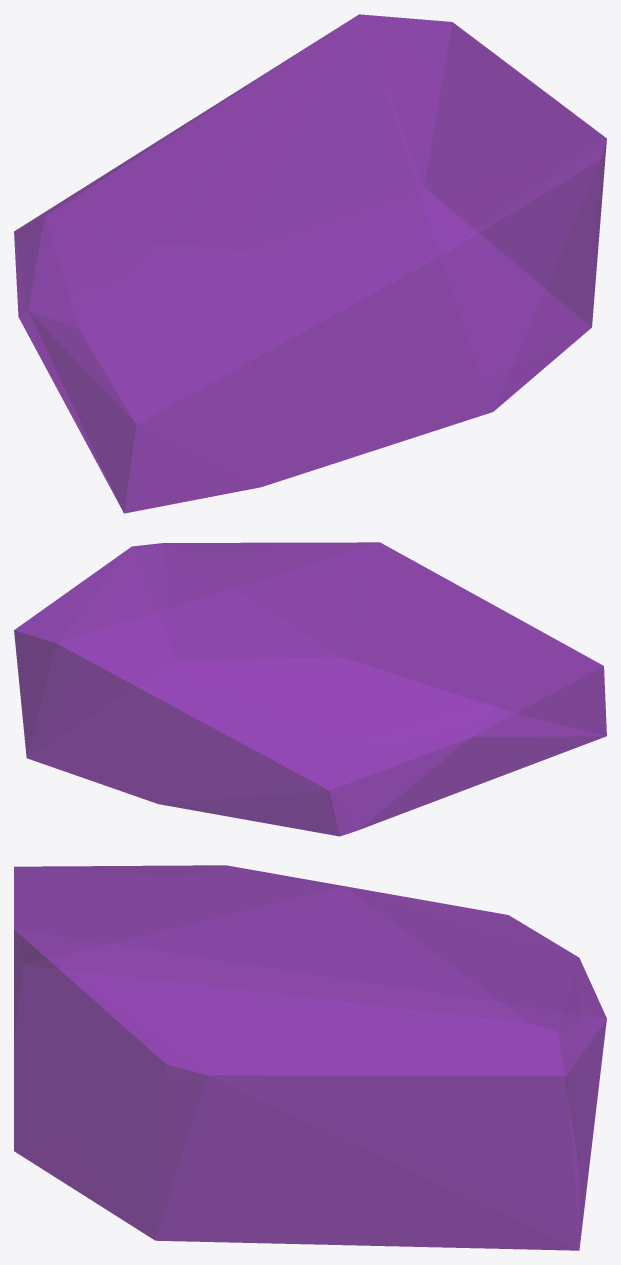
3 views of the same model, one above another, from view 1: azimuth 30°, elevation 25°; view 2: azimuth 150°, elevation 25°; view 3: azimuth 270°, elevation 25° (orthographic). The views are drawn at different scales.
Visible parts, largest first — view 1: Shape_IndexedFaceSet.036_Shape_IndexedFaceSet.3613; view 2: Shape_IndexedFaceSet.036_Shape_IndexedFaceSet.3613; view 3: Shape_IndexedFaceSet.036_Shape_IndexedFaceSet.3613.
Boxes of the visible parts, x1=… form: Shape_IndexedFaceSet.036_Shape_IndexedFaceSet.3613: x1=14, y1=14, x2=606, y2=513; Shape_IndexedFaceSet.036_Shape_IndexedFaceSet.3613: x1=14, y1=542, x2=606, y2=836; Shape_IndexedFaceSet.036_Shape_IndexedFaceSet.3613: x1=14, y1=865, x2=606, y2=1250.
Size of the model in its own units: 0.2424 by 0.0802 by 0.1924.
